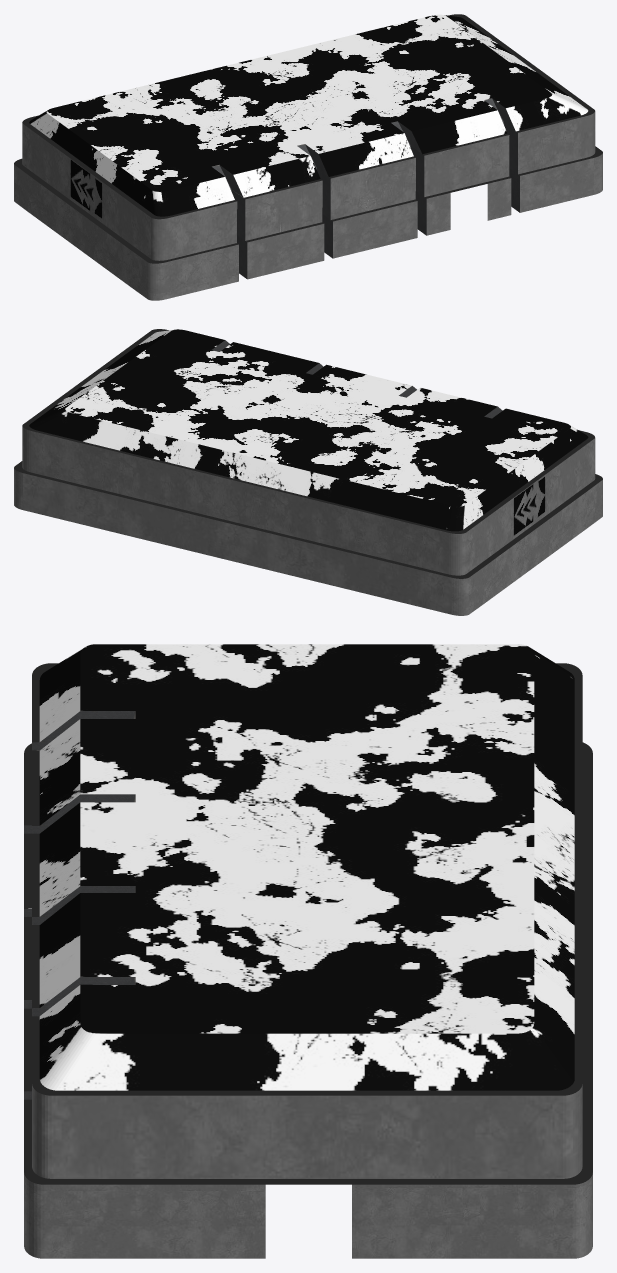
Rendered from mapa3.obj.
3 views of the same model, one above another, from view 1: azimuth 30°, elevation 25°; view 2: azimuth 150°, elevation 25°; view 3: azimuth 270°, elevation 25° (orthographic). The views are drawn at different scales.
Parts seen in each view (by area): view 1: SalaEntrenamiento_Entrenamiento_Cube.002; view 2: SalaEntrenamiento_Entrenamiento_Cube.002; view 3: SalaEntrenamiento_Entrenamiento_Cube.002.
Part boxes in pixels (x1,y1,x2,y2): SalaEntrenamiento_Entrenamiento_Cube.002: (14,14,602,300); SalaEntrenamiento_Entrenamiento_Cube.002: (14,329,602,615); SalaEntrenamiento_Entrenamiento_Cube.002: (24,644,592,1258).
Bounding box in the file's own units: 74.53 × 14.78 × 40.35.
